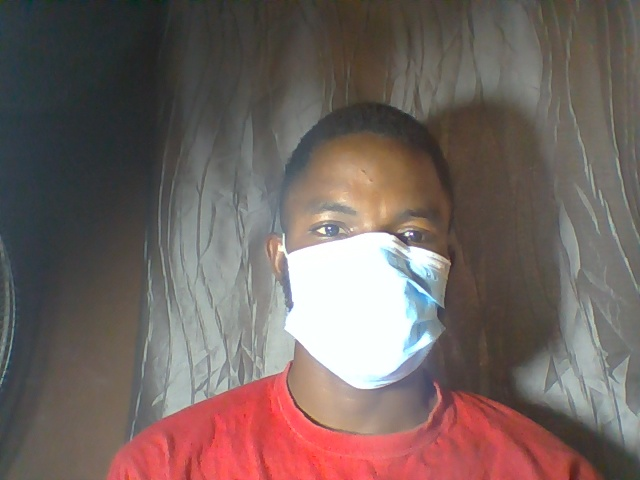MaskOn: (257, 99, 467, 407)
